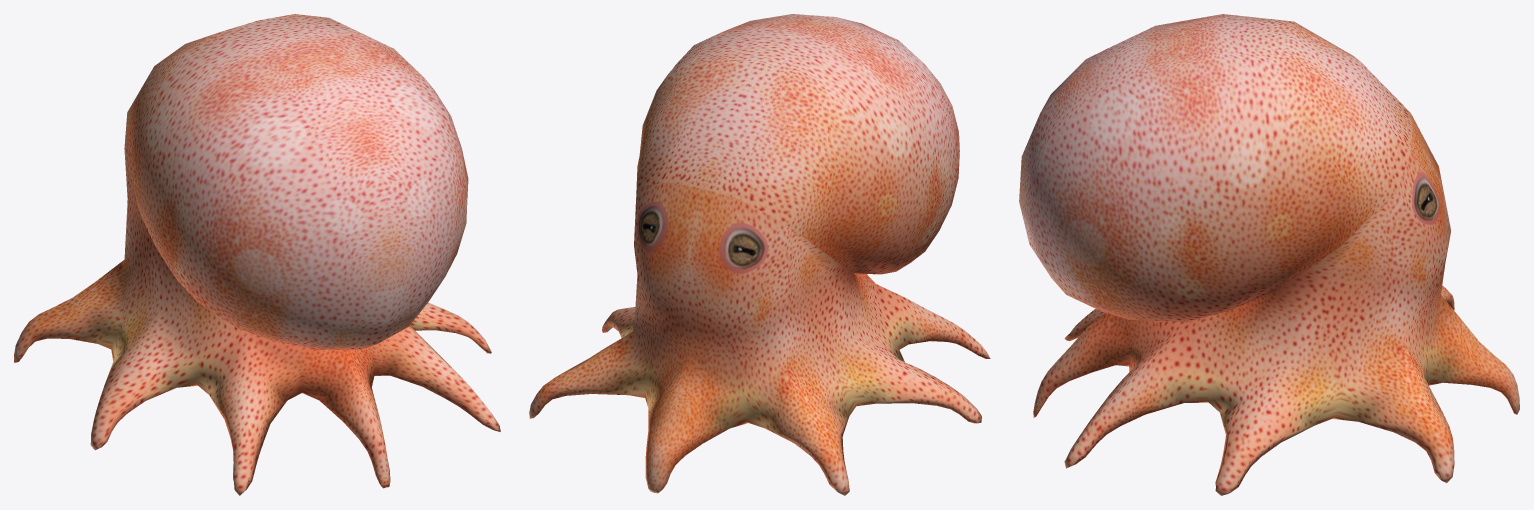
The model's file is CRT0110041.fbx.
3 renders of one model, left to right at view 1: azimuth 30°, elevation 25°; view 2: azimuth 150°, elevation 25°; view 3: azimuth 270°, elevation 25°, orthographic. The views are drawn at different scales.
Parts seen in each view (by area): view 1: smCRT0110041; view 2: smCRT0110041; view 3: smCRT0110041.
Boxes of the visible parts, x1,y1,x2,y2 form: smCRT0110041: [14, 14, 500, 495]; smCRT0110041: [529, 14, 990, 495]; smCRT0110041: [1019, 14, 1519, 495].
Size of the model in its own units: 21.55 by 19.69 by 23.41.
Materials: 1 (1 with a texture image).
